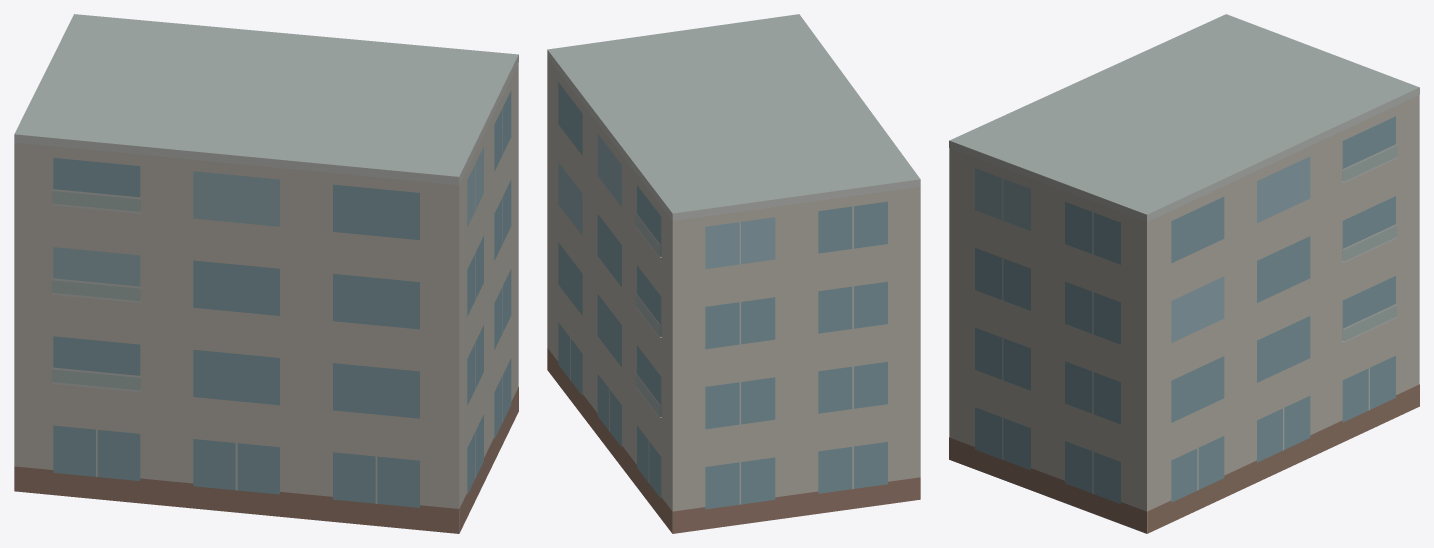
File: survey-upis-32603750.glb
3 views of the same model, side by side, from view 1: azimuth 30°, elevation 25°; view 2: azimuth 150°, elevation 25°; view 3: azimuth 270°, elevation 25° (orthographic). The views are drawn at different scales.
Visible parts, largest first — view 1: survey-upis-32603750.tmp; view 2: survey-upis-32603750.tmp; view 3: survey-upis-32603750.tmp.
Boxes of the visible parts, bbox=[...] form: survey-upis-32603750.tmp: bbox=[14, 14, 518, 533]; survey-upis-32603750.tmp: bbox=[547, 14, 920, 533]; survey-upis-32603750.tmp: bbox=[949, 14, 1419, 533].
Bounding box in the file's own units: 14.31 × 10.6 × 14.17.
